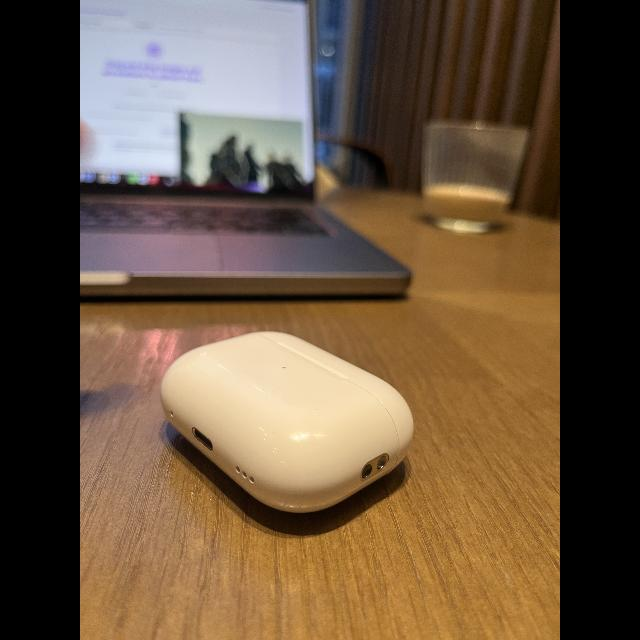AirPods Pro: (153, 321, 421, 535)
